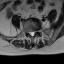CCS_normal: (31, 30, 33, 37)
LFS_severe_stenosis: (35, 28, 37, 33)
LLS_normal: (33, 30, 35, 36)
RFS_stenosis: (27, 29, 29, 35)
RLS_normal: (29, 30, 31, 37)
